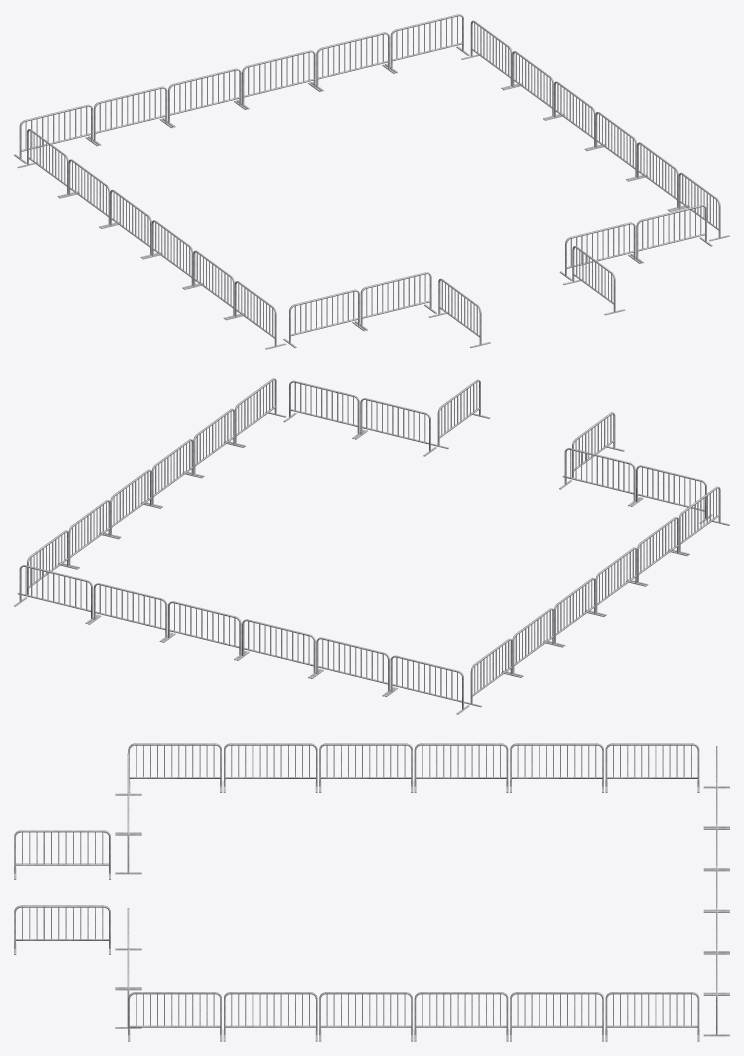
Rendered from metal_barricade.glb.
The picture shows the model from 3 angles, top to bottom: view 1: azimuth 30°, elevation 25°; view 2: azimuth 150°, elevation 25°; view 3: azimuth 270°, elevation 25°; orthographic projection. The views are drawn at different scales.
Visible parts, largest first — view 1: metal_barricades; view 2: metal_barricades; view 3: metal_barricades.
Part boxes in pixels (<box>): metal_barricades: <box>14,14,729,349</box>; metal_barricades: <box>14,378,729,714</box>; metal_barricades: <box>14,743,729,1041</box>.
Bounding box in the file's own units: 14.02 × 1.1 × 16.33.
Materials: 1 (1 with a texture image).
